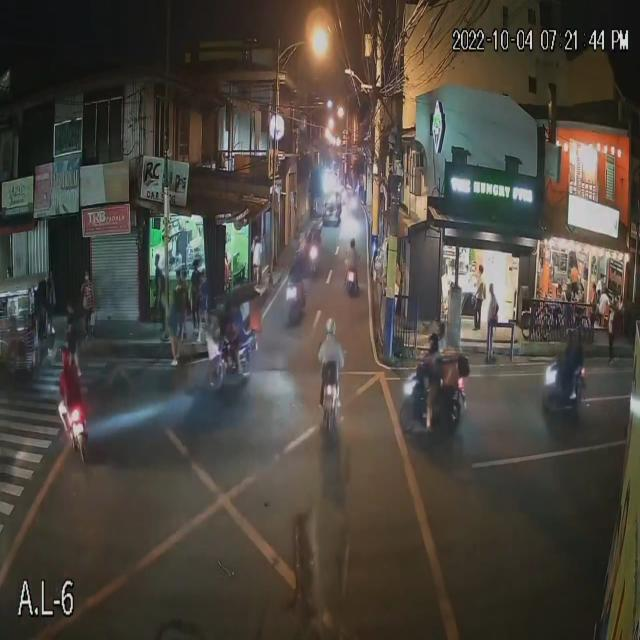Full-Faced: (321, 312, 339, 342), (59, 344, 72, 369), (569, 325, 582, 350), (425, 332, 438, 353), (563, 326, 573, 348), (347, 232, 357, 250)
